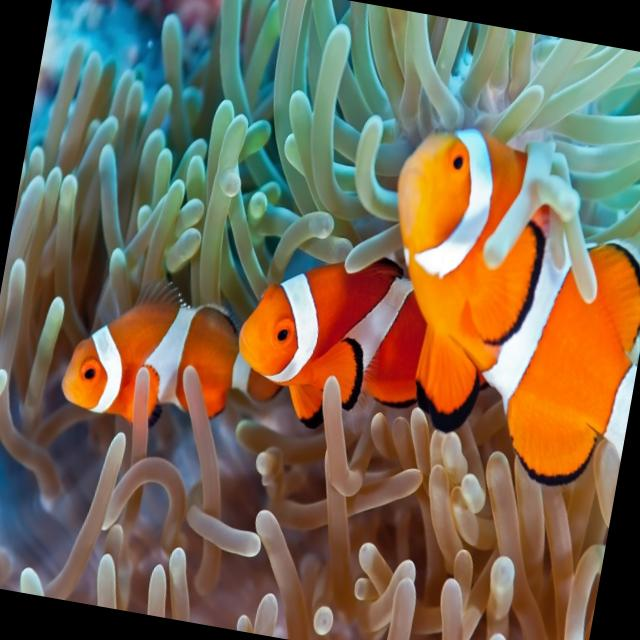ClownFish: (350, 114, 640, 488), (228, 220, 448, 427), (59, 272, 293, 448)
